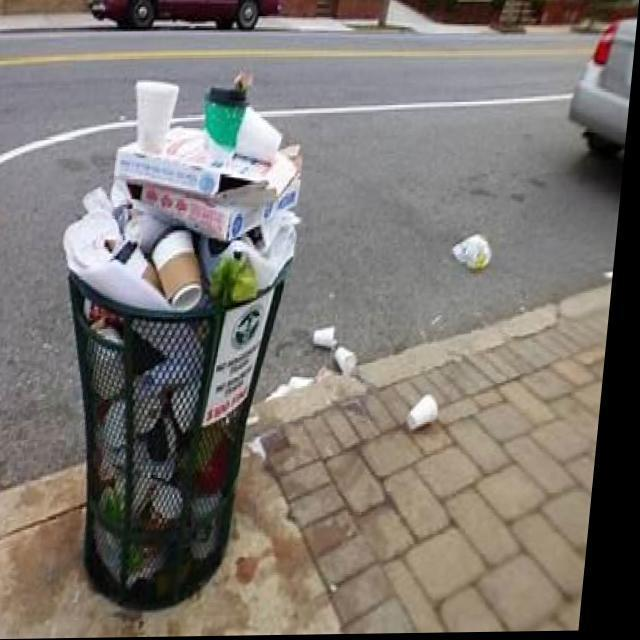Garbage: (70, 72, 306, 310)
Plastic_bottle: (206, 88, 248, 150)
